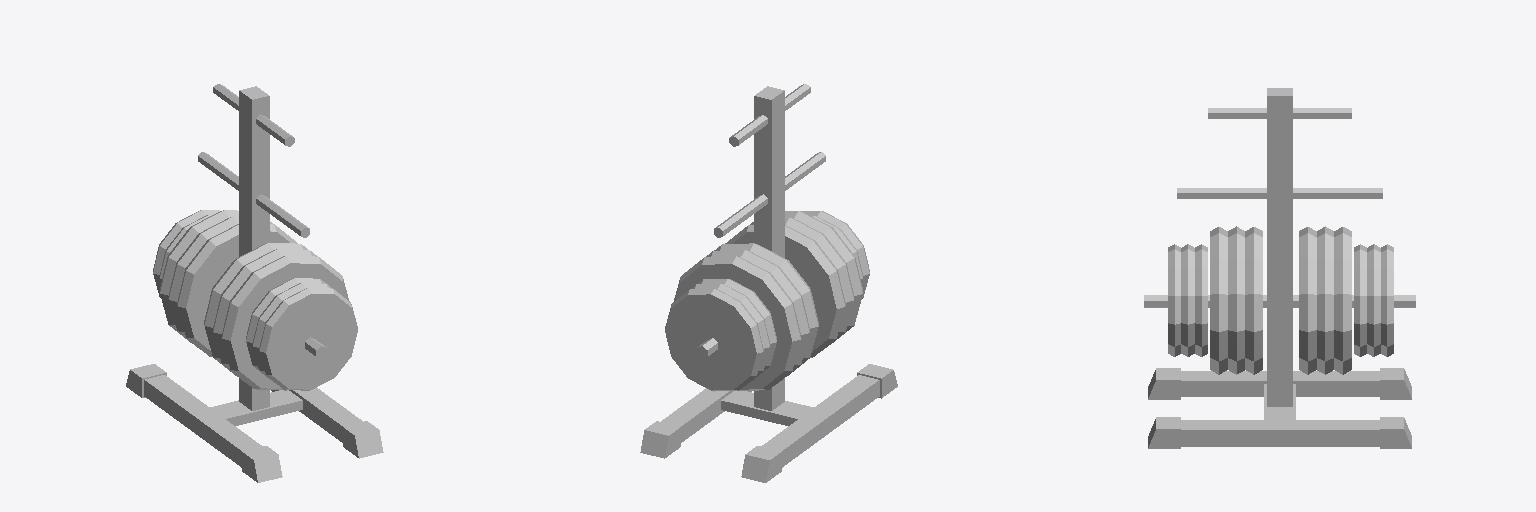
Rendered from training_item_002.obj.
The picture shows the model from 3 angles: view 1: azimuth 30°, elevation 25°; view 2: azimuth 150°, elevation 25°; view 3: azimuth 270°, elevation 25°; orthographic projection.
Parts seen in each view (by area): view 1: training_item_002; view 2: training_item_002; view 3: training_item_002.
Part boxes in pixels (x1,y1,x2,y2): training_item_002: (126,84,383,482); training_item_002: (640,84,897,482); training_item_002: (1144,88,1415,448).
Bounding box in the file's own units: 0.529 × 1.28 × 0.9623.